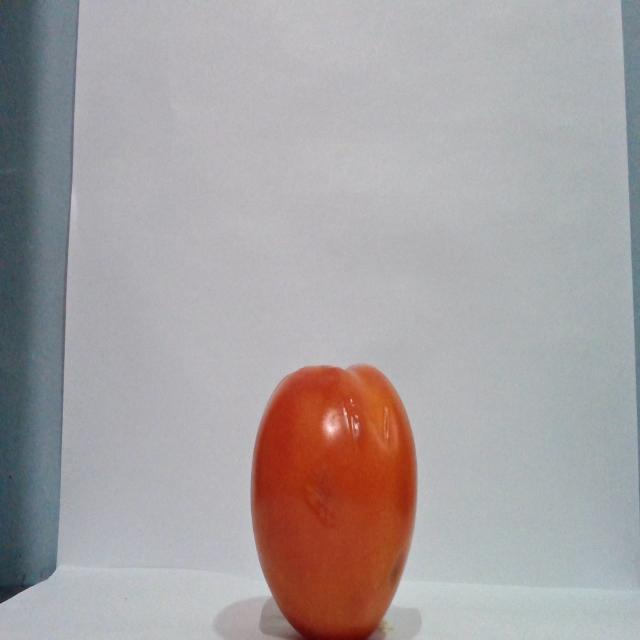Red: (248, 361, 418, 638)
